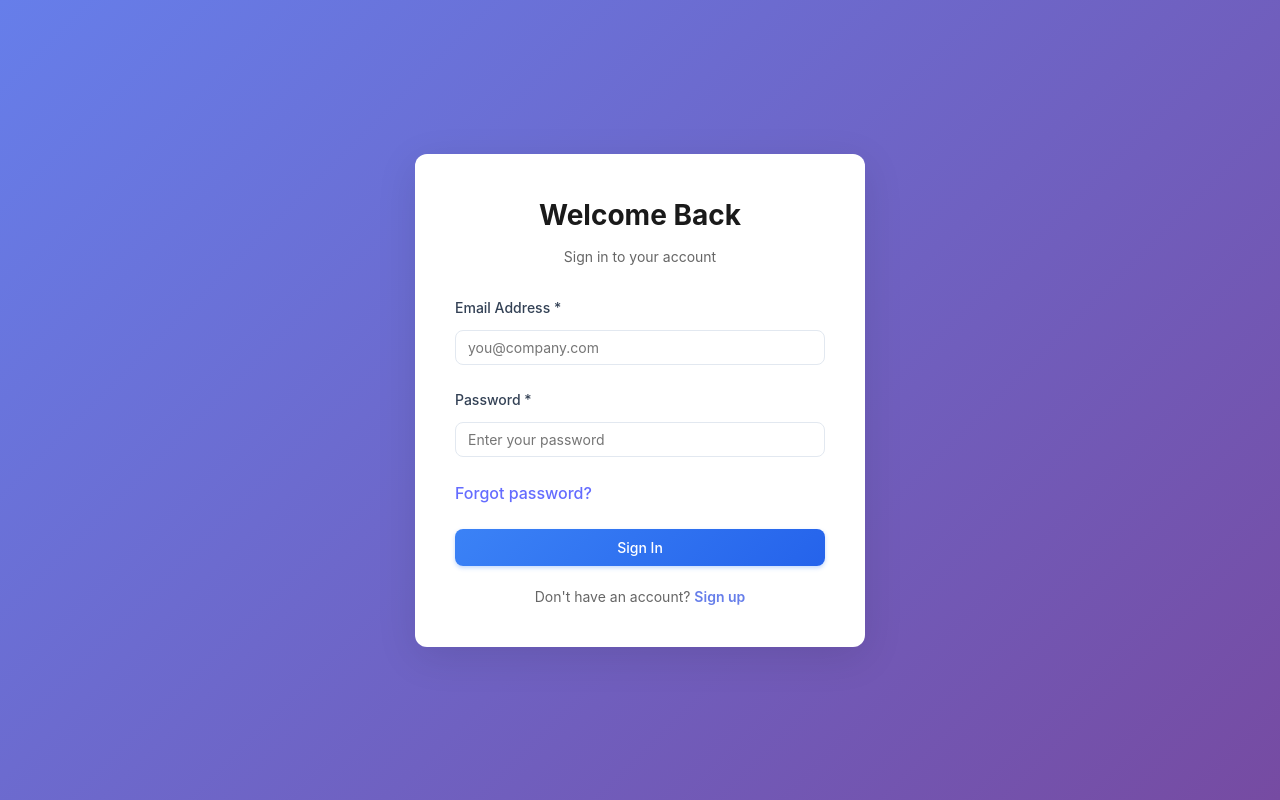
Test case: Login Component › should display validation errors for empty fields
The width and height of the screenshot is (1280, 800).
Click the button "Sign In" at (640, 547), box [455, 528, 825, 566]
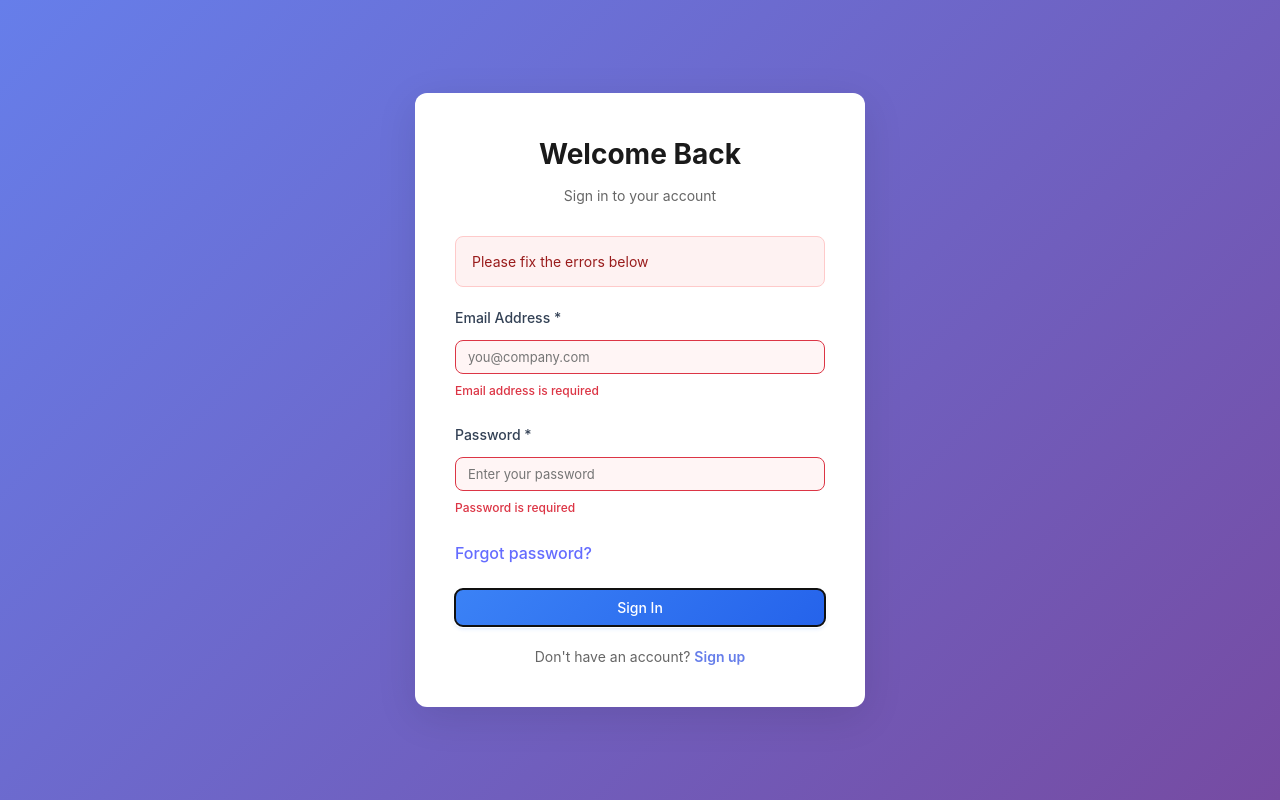
Now the text "Email address is required" is shown, box [455, 383, 599, 398]
Now the text "Password is required" is shown, box [455, 500, 575, 515]
